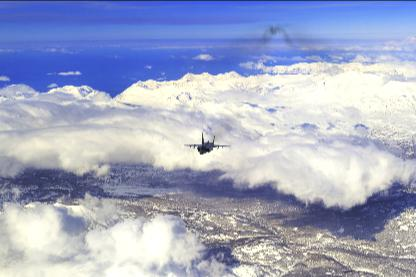Mig31: (184, 131, 232, 153)
